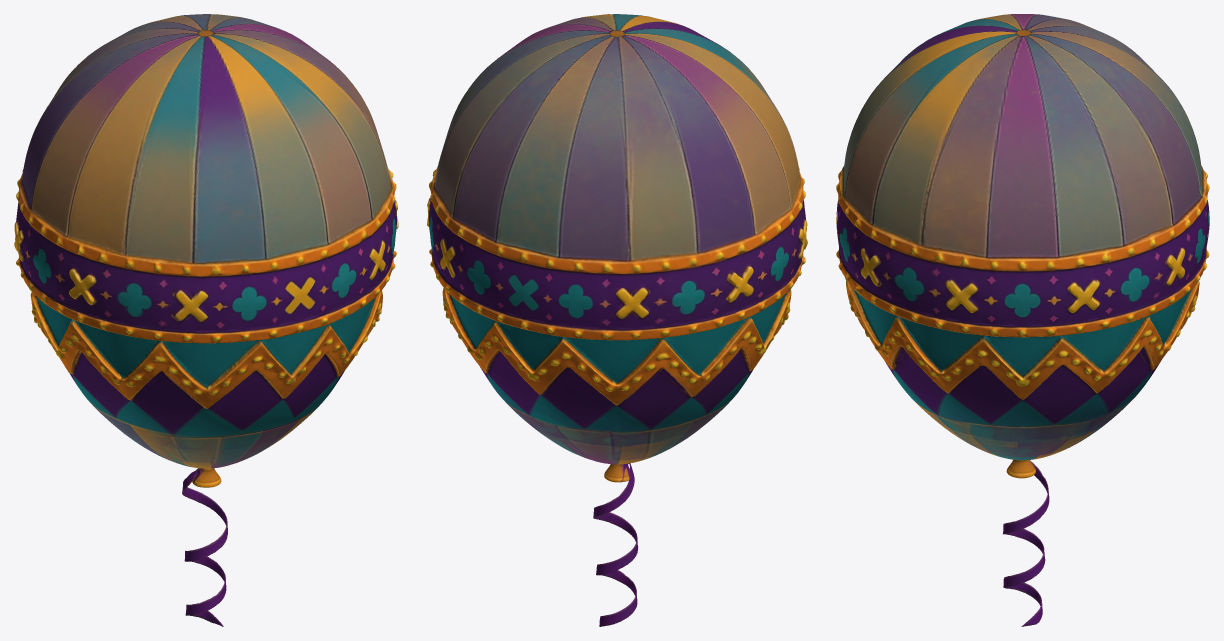
The model's file is balloon-sky-orb.glb.
The picture shows the model from 3 angles, left to right: view 1: azimuth 30°, elevation 25°; view 2: azimuth 150°, elevation 25°; view 3: azimuth 270°, elevation 25°; orthographic projection.
Parts seen in each view (by area): view 1: mesh_node; view 2: mesh_node; view 3: mesh_node.
Part boxes in pixels (x1,y1,x2,y2): mesh_node: (14, 14, 398, 626); mesh_node: (427, 14, 807, 626); mesh_node: (836, 14, 1209, 626).
Size of the model in its own units: 1.1 by 1.9 by 1.1.
Materials: 1 (1 with a texture image).
